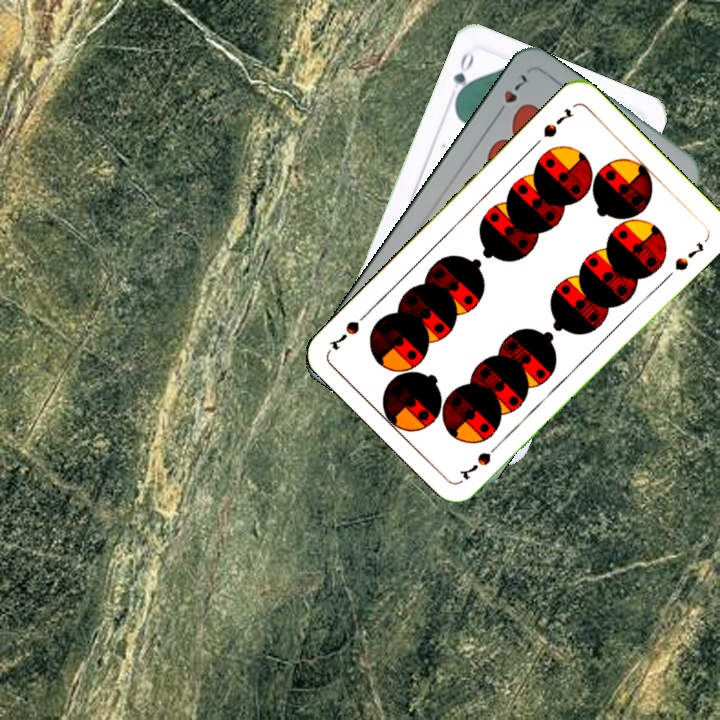GO: (449, 48, 477, 105)
H7: (491, 69, 530, 120)
S7: (455, 437, 504, 482), (539, 104, 576, 140)
